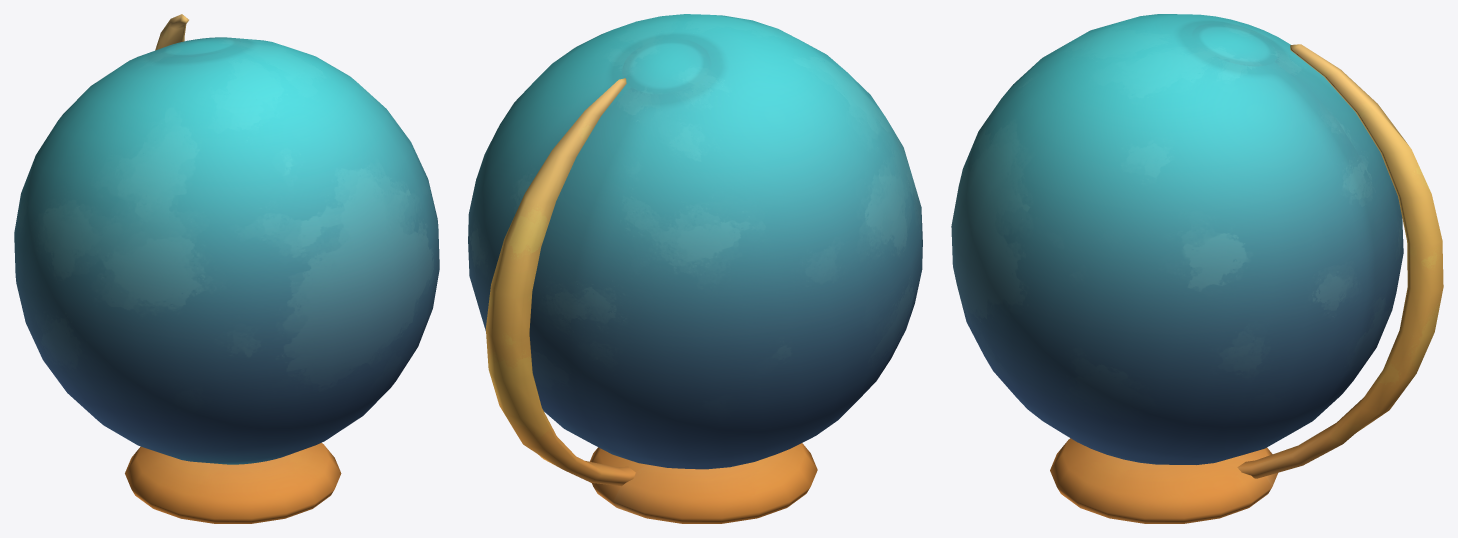
Rendered from globe.fbx.
3 renders of one model, left to right at view 1: azimuth 30°, elevation 25°; view 2: azimuth 150°, elevation 25°; view 3: azimuth 270°, elevation 25°, orthographic. The views are drawn at different scales.
Visible parts, largest first — view 1: Sphere; view 2: Sphere; view 3: Sphere.
Part boxes in pixels (<box>): Sphere: <box>14,14,439,523</box>; Sphere: <box>468,14,922,523</box>; Sphere: <box>951,14,1443,523</box>.
Bounding box in the file's own units: 864 × 938 × 933.
1 material, 1 textured.
